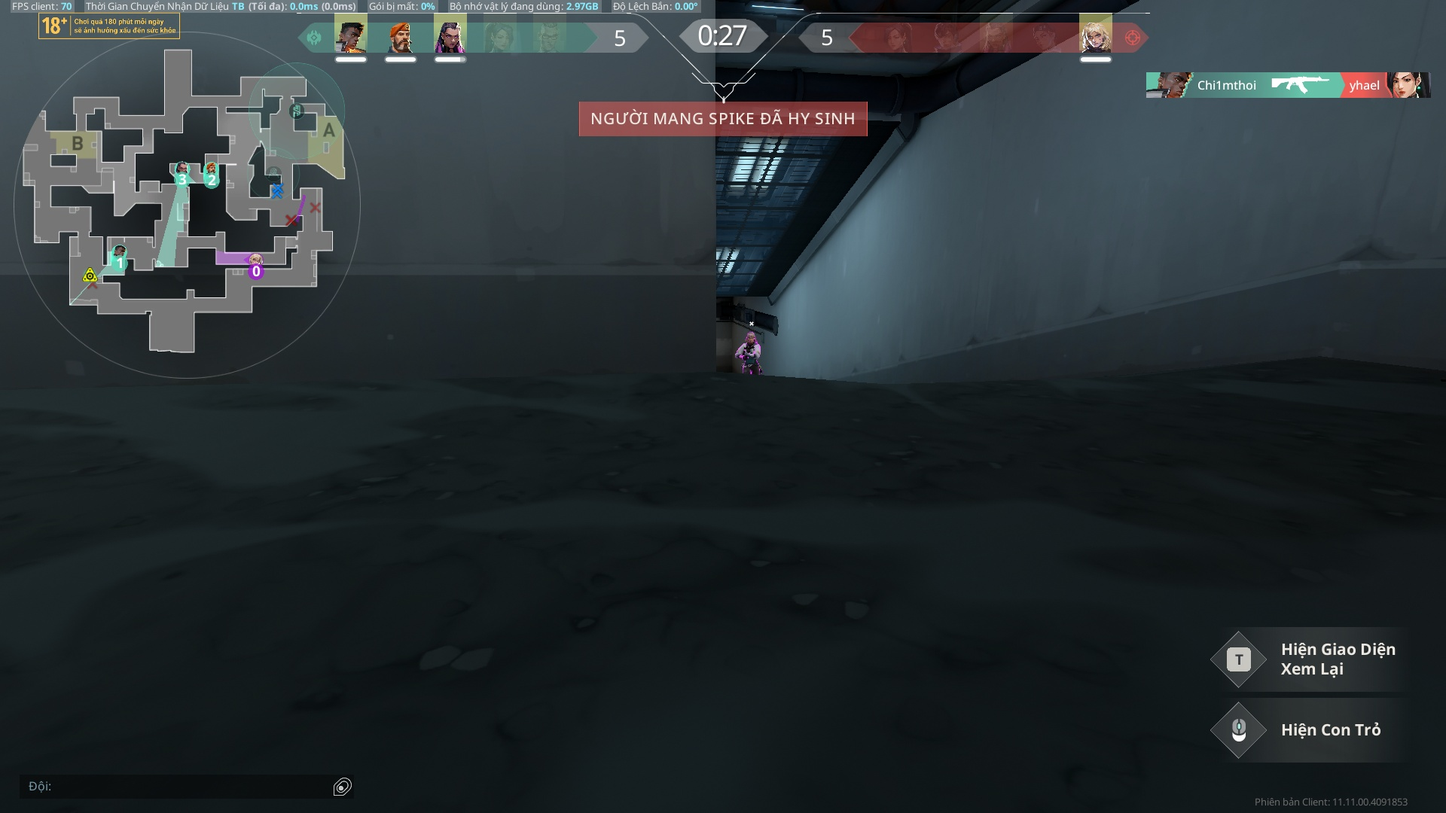body: (742, 341, 761, 363)
head: (745, 330, 756, 343)
